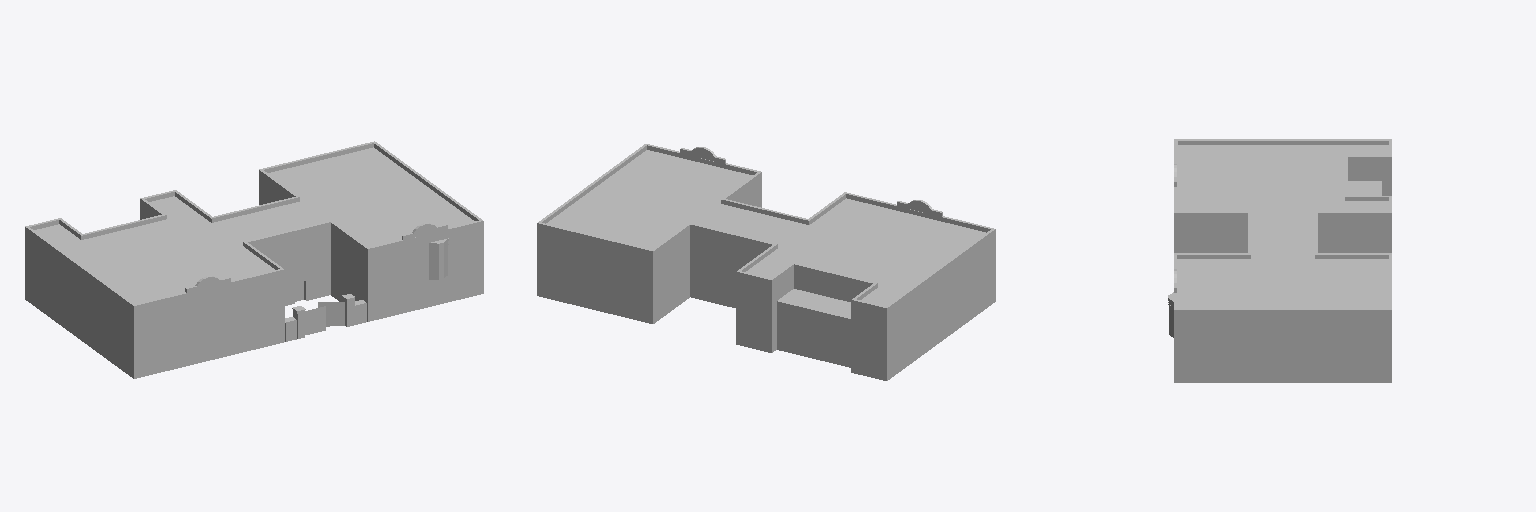
File: building.obj
3 views of the same model, side by side, from view 1: azimuth 30°, elevation 25°; view 2: azimuth 150°, elevation 25°; view 3: azimuth 270°, elevation 25° (orthographic).
Parts seen in each view (by area): view 1: Plane01; view 2: Plane01; view 3: Plane01.
Boxes of the visible parts, <box> form: Plane01: <box>25,141,483,378</box>; Plane01: <box>537,144,995,380</box>; Plane01: <box>1168,139,1391,382</box>.
Size of the model in its own units: 38134 by 8717 by 21132.